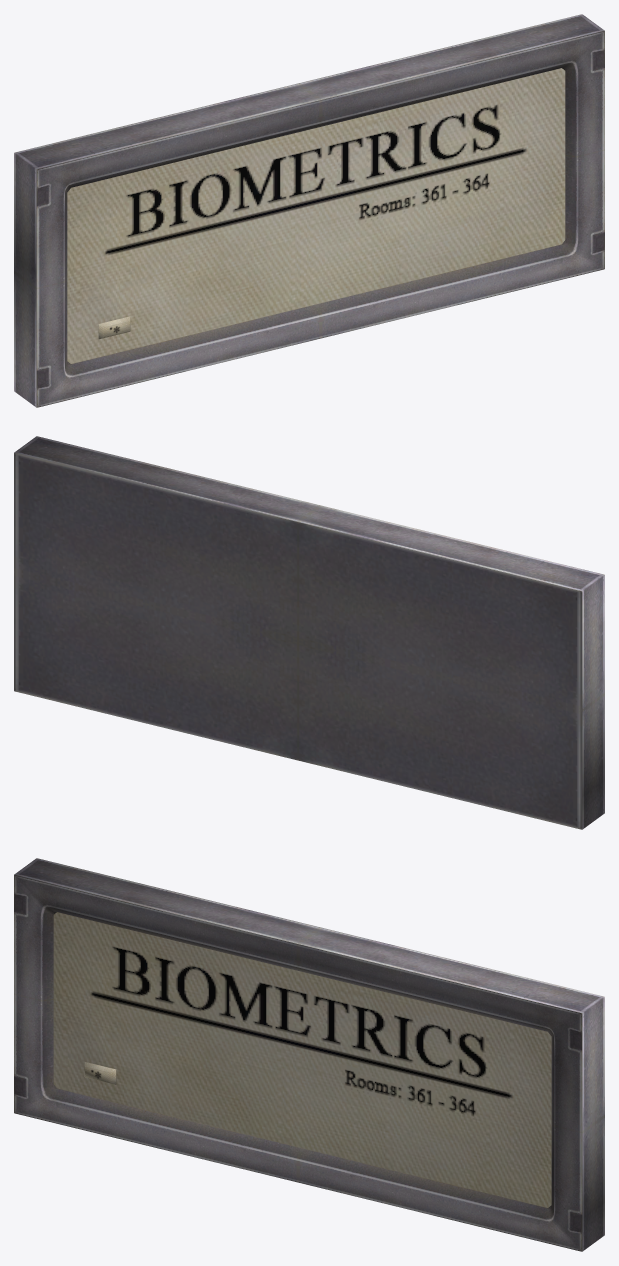
File: sign_scanroom.dae
3 views of the same model, one above another, from view 1: azimuth 30°, elevation 25°; view 2: azimuth 150°, elevation 25°; view 3: azimuth 330°, elevation 25° (orthographic).
Parts seen in each view (by area): view 1: sign_scanroom; view 2: sign_scanroom; view 3: sign_scanroom.
Boxes of the visible parts, x1,y1,x2,y2 form: sign_scanroom: (14, 14, 604, 407); sign_scanroom: (14, 436, 604, 829); sign_scanroom: (14, 858, 604, 1251).
Size of the model in its own units: 40 by 16.04 by 2.78.
